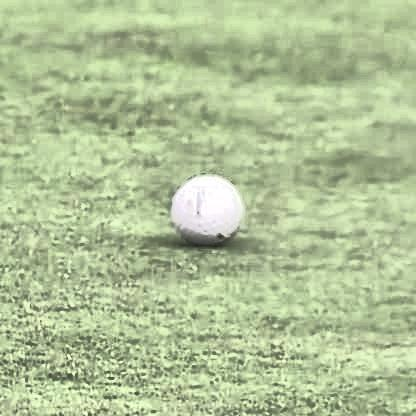golfball: (172, 169, 242, 240)
